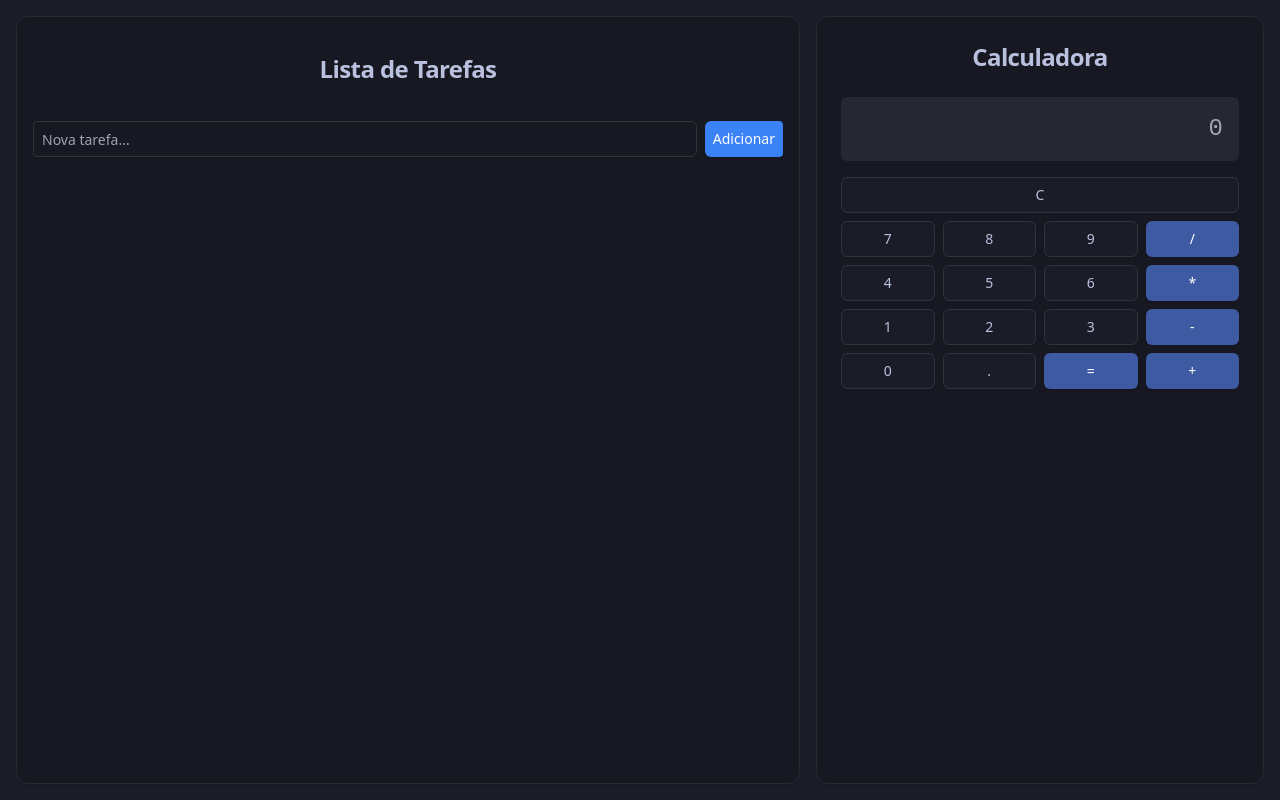
Scenario: TodoApp › deve adicionar uma nova tarefa
Type "Estudar Cypress" into the field with test id "todo-input" at (365, 139), box [33,121,697,157]
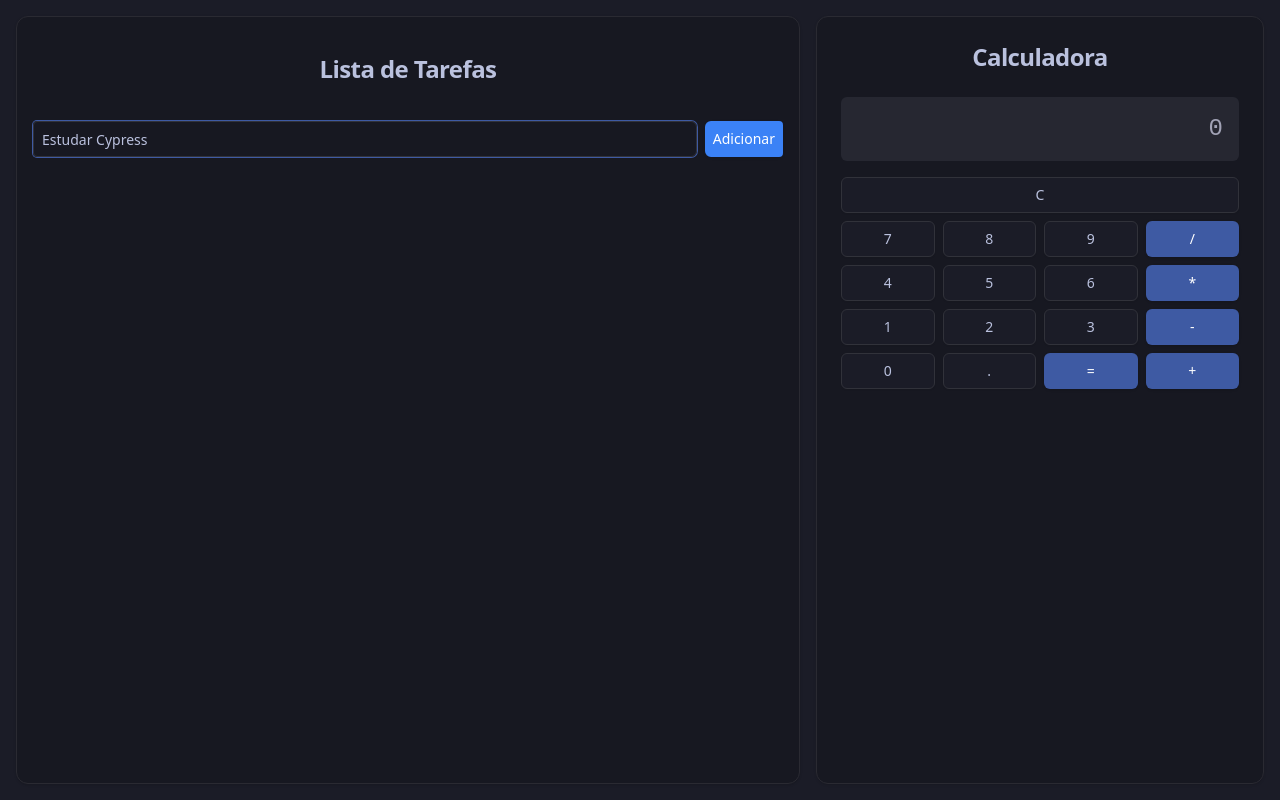
Click the button with test id "add-todo" at (744, 139), box [705,121,783,157]
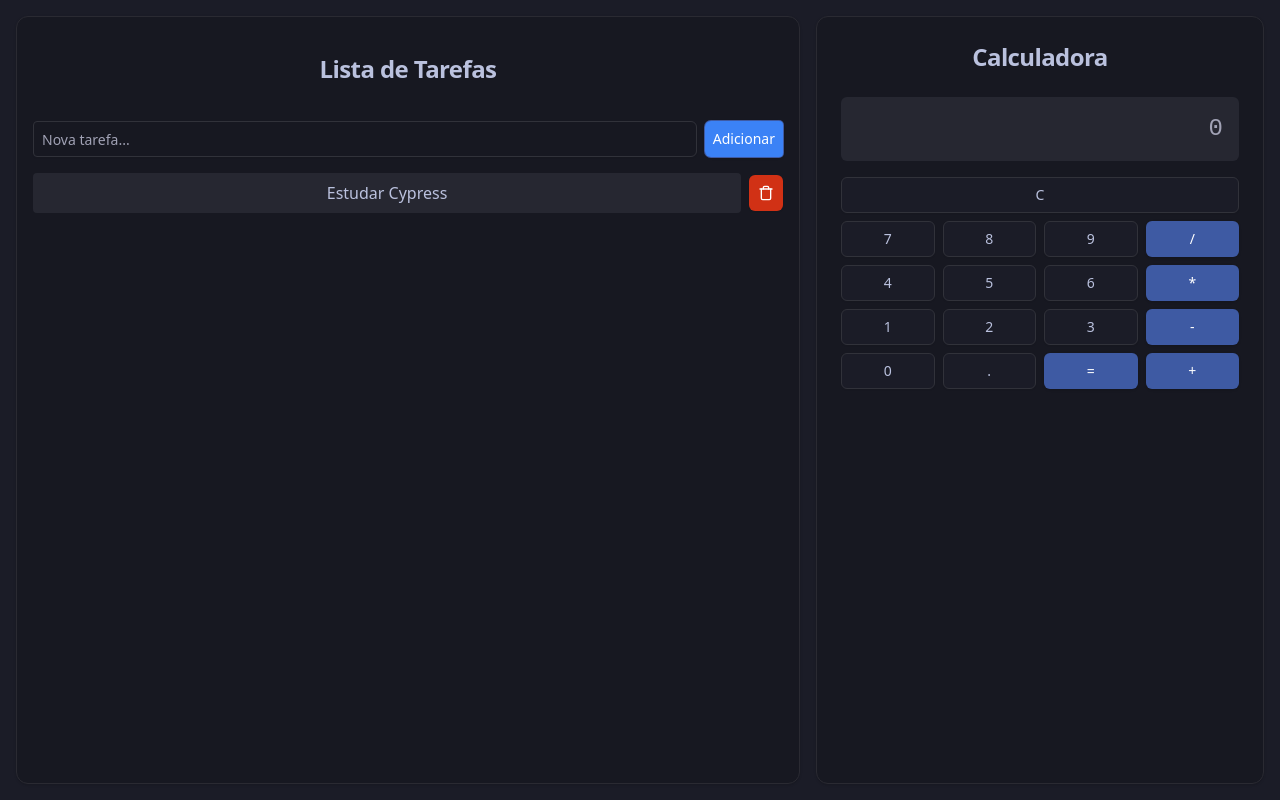
Expected: the text with test id "todo-item" reads "Estudar Cypress", [327,182,448,204]
